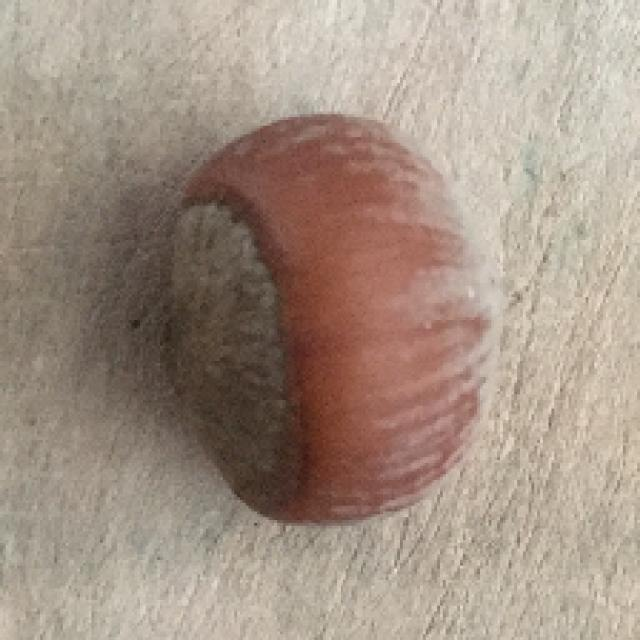qualityHazelnut: (169, 110, 503, 526)
